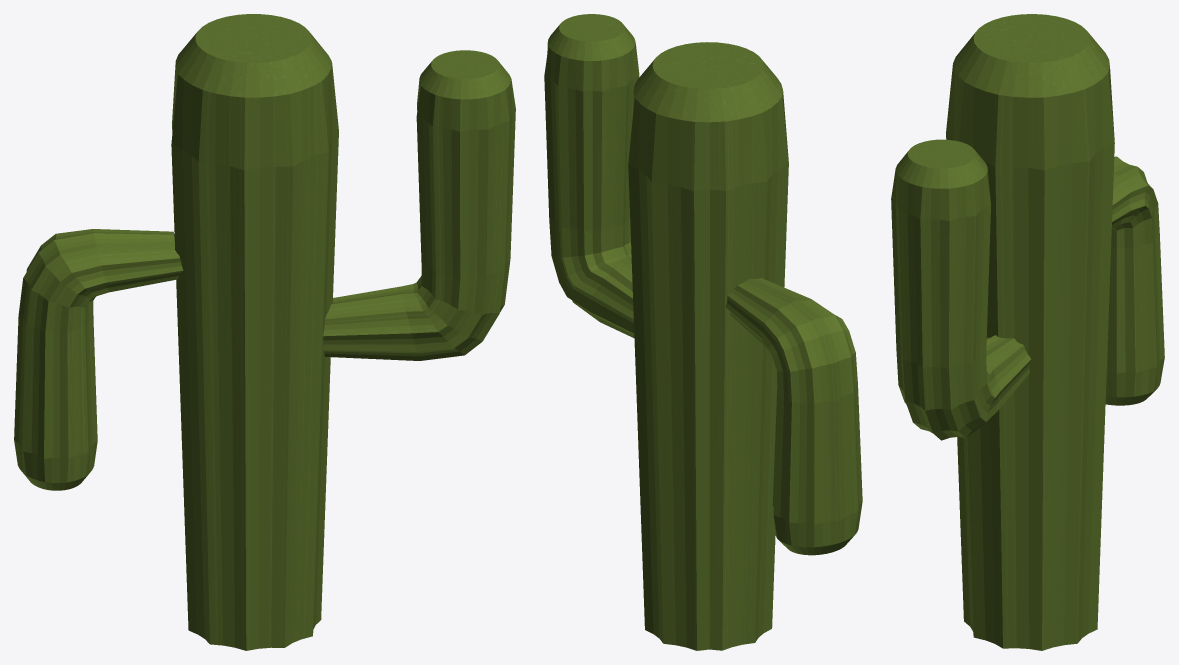
The model's file is cactus1.fbx.
3 views of the same model, side by side, from view 1: azimuth 30°, elevation 25°; view 2: azimuth 150°, elevation 25°; view 3: azimuth 270°, elevation 25° (orthographic). The views are drawn at different scales.
Parts seen in each view (by area): view 1: Cylinder.002; view 2: Cylinder.002; view 3: Cylinder.002.
Part boxes in pixels (x1,y1,x2,y2): Cylinder.002: (14,14,515,650); Cylinder.002: (544,14,862,650); Cylinder.002: (891,14,1164,650).
Size of the model in its own units: 515 by 877 by 1213.
Materials: 1 (1 with a texture image).
